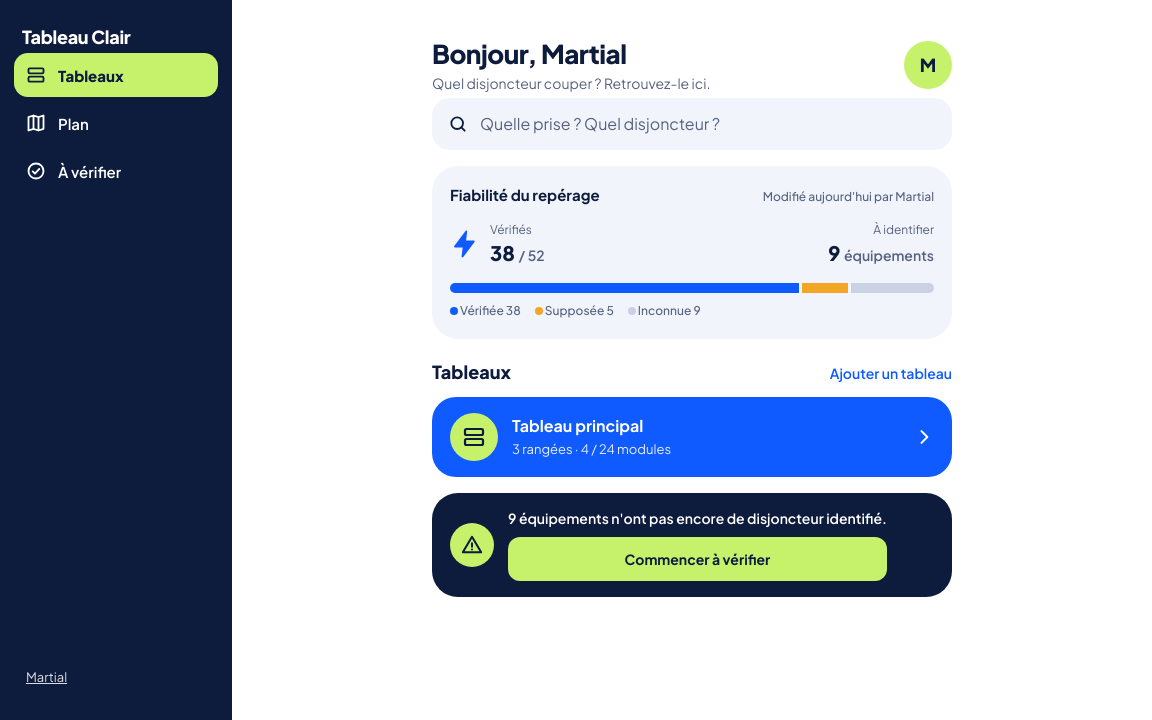
Recherche › indique l’absence de résultat
The image size is (1152, 720).
Expected: the element "Fiabilité du repérage" is shown, [432,166,952,339]
In the search field named "Rechercher": (707, 124) [478,112,936,136], type "introuvable"
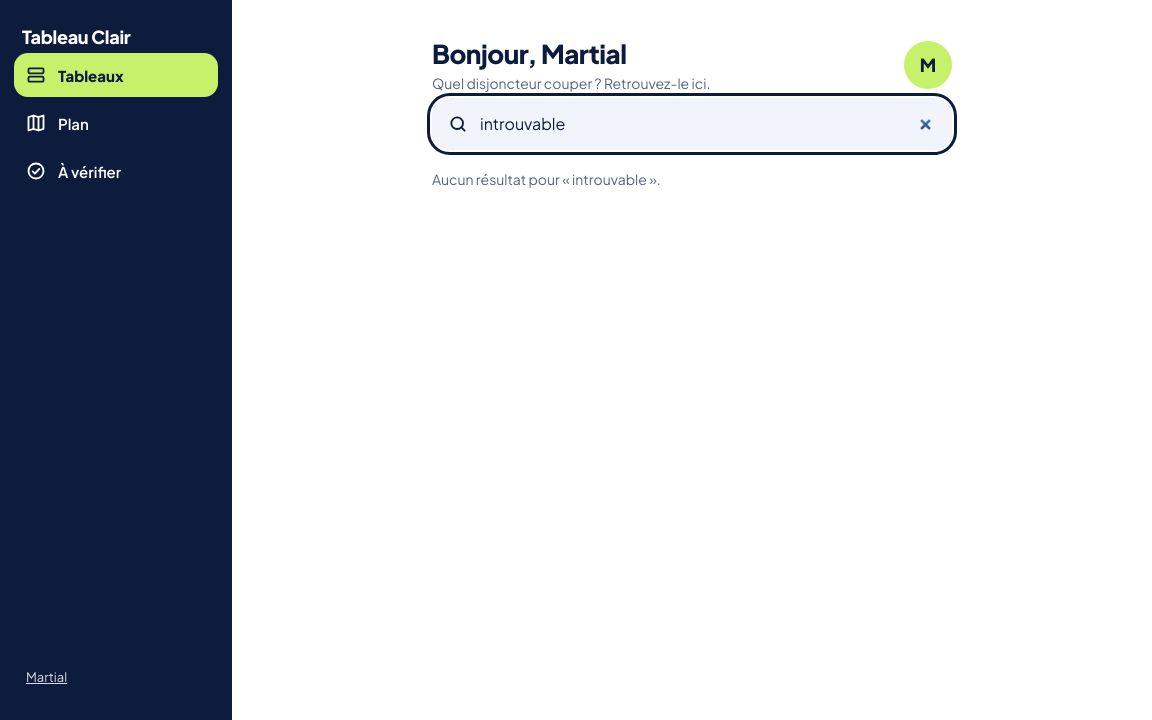
Expected: the text "Aucun résultat pour « introuvable »." is shown, [432,170,661,188]
